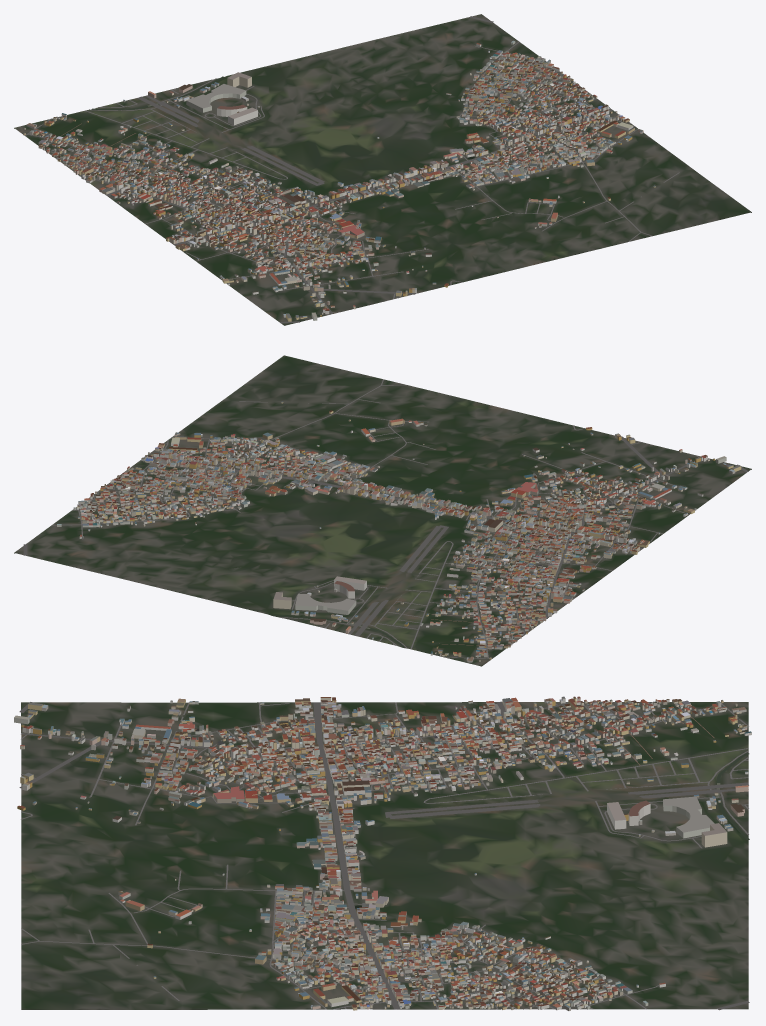
3 renders of one model, top to bottom at view 1: azimuth 30°, elevation 25°; view 2: azimuth 150°, elevation 25°; view 3: azimuth 270°, elevation 25°, orthographic. The views are drawn at different scales.
Parts seen in each view (by area): view 1: ground, buildings, roads; view 2: ground, buildings, roads; view 3: ground, buildings, roads.
Boxes of the visible parts, x1,y1,x2,y2 form: ground: (14, 14, 751, 325); buildings: (23, 40, 655, 321); roads: (25, 16, 679, 323); ground: (14, 355, 751, 666); buildings: (57, 401, 741, 662); roads: (23, 379, 748, 658); ground: (21, 702, 748, 1009); buildings: (14, 696, 751, 1010); roads: (19, 701, 749, 1010).
Bounding box in the file's own units: 1414 × 29.89 × 1422.
